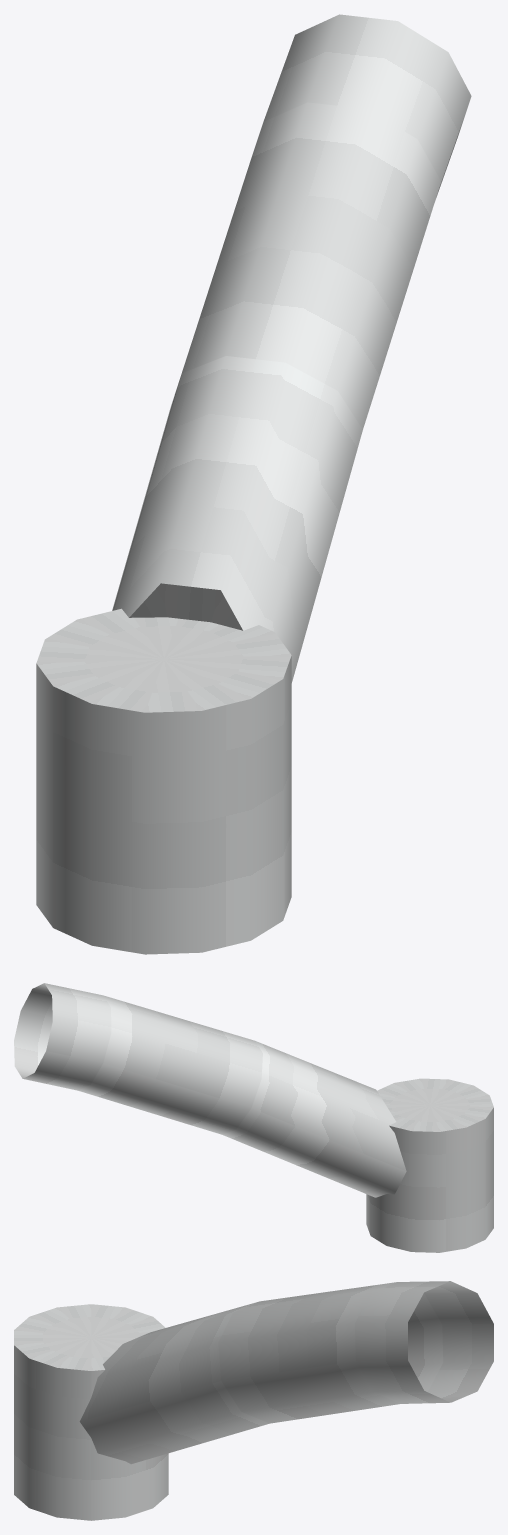
Rendered from nycsignalarm_diagonal12_c1_pedestal.obj.
3 renders of one model, top to bottom at view 1: azimuth 30°, elevation 25°; view 2: azimuth 150°, elevation 25°; view 3: azimuth 270°, elevation 25°, orthographic. The views are drawn at different scales.
Visible parts, largest first — view 1: nycsignalarm_diagonal12_c1_pedestal; view 2: nycsignalarm_diagonal12_c1_pedestal; view 3: nycsignalarm_diagonal12_c1_pedestal.
Part boxes in pixels (left/top/right/bottom): nycsignalarm_diagonal12_c1_pedestal: left=36, top=14, right=471, bottom=954; nycsignalarm_diagonal12_c1_pedestal: left=14, top=983, right=493, bottom=1252; nycsignalarm_diagonal12_c1_pedestal: left=14, top=1281, right=493, bottom=1520.
Size of the model in its own units: 1.35 by 1.07 by 1.34.
